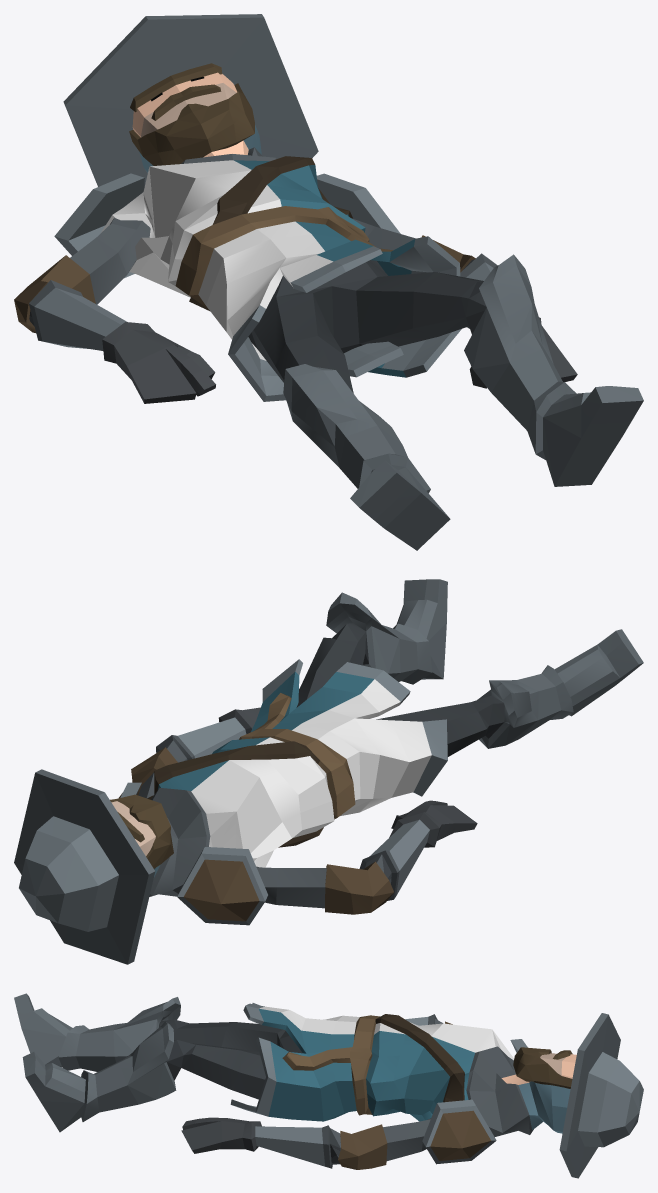
The model's file is SM_Dead_Guard_01.fbx.
3 views of the same model, one above another, from view 1: azimuth 30°, elevation 25°; view 2: azimuth 150°, elevation 25°; view 3: azimuth 270°, elevation 25° (orthographic). The views are drawn at different scales.
Visible parts, largest first — view 1: SM_Dead_Guard_01; view 2: SM_Dead_Guard_01; view 3: SM_Dead_Guard_01.
Part boxes in pixels (x1=…): SM_Dead_Guard_01: x1=14, y1=14, x2=643, y2=550; SM_Dead_Guard_01: x1=14, y1=579, x2=643, y2=964; SM_Dead_Guard_01: x1=14, y1=993, x2=643, y2=1178.
Bounding box in the file's own units: 87.42 × 46.3 × 184.
